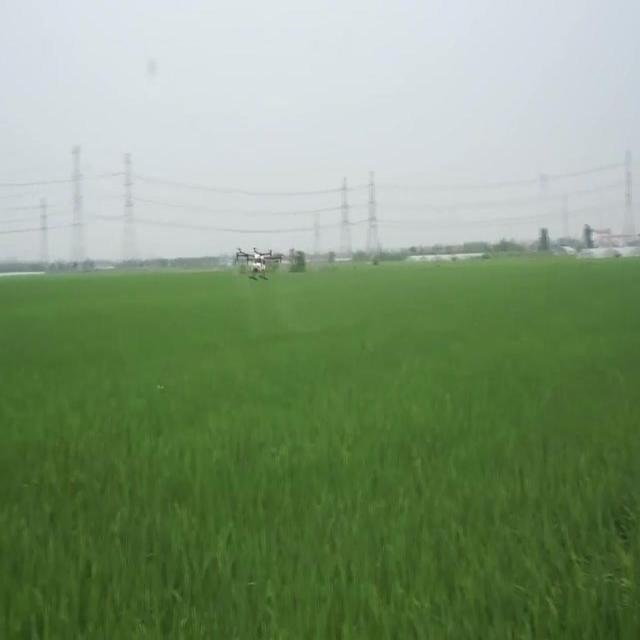drone: (234, 242, 284, 284)
